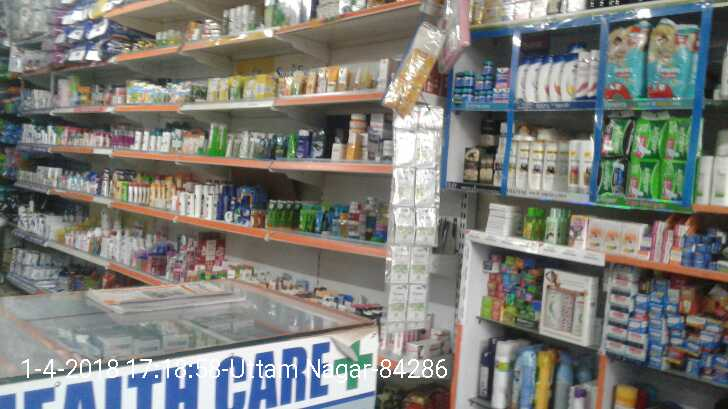vicks: (453, 60, 512, 103)
